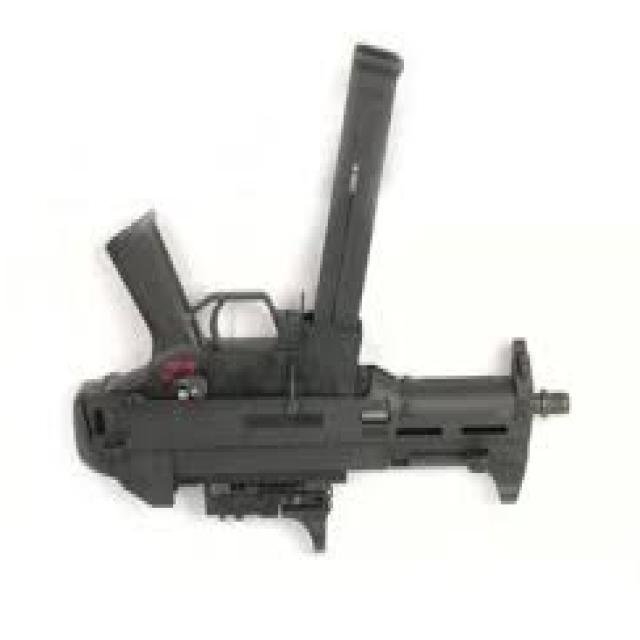Gun: (58, 20, 580, 525)
